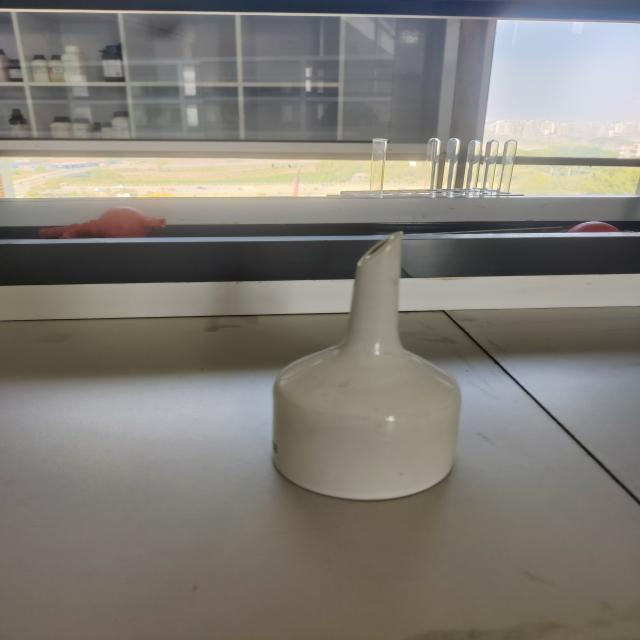Buchner_Funnel: (222, 212, 504, 526)
